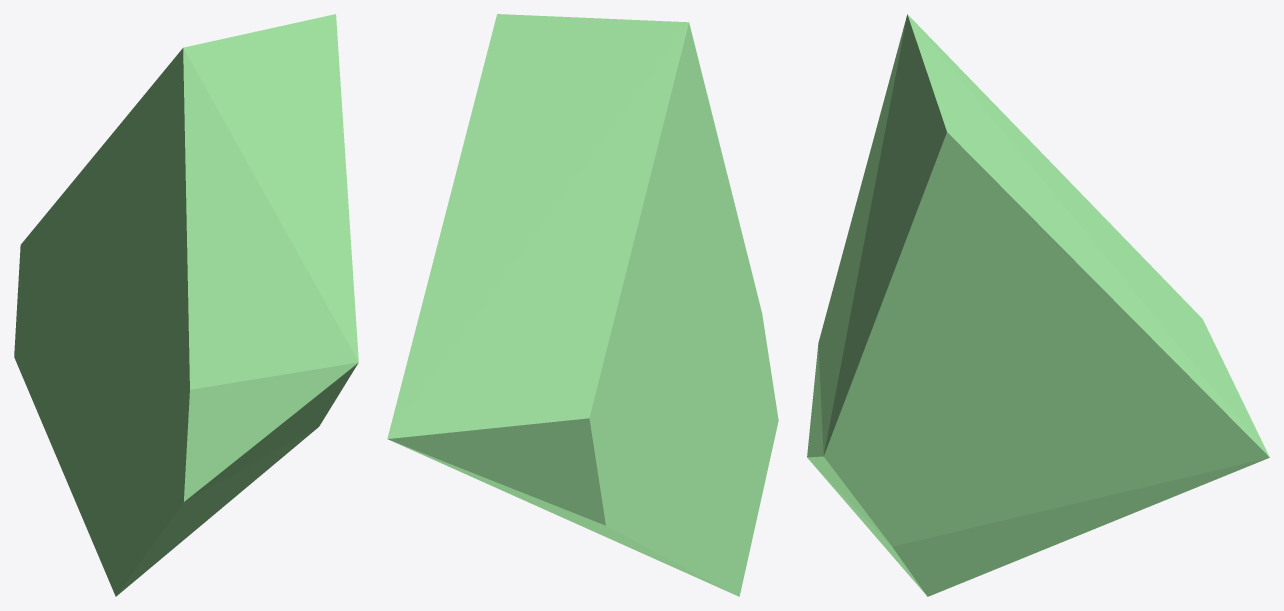
File: UMIRobot_UMIRobot_link_5_convex_coll_35.dae
3 views of the same model, side by side, from view 1: azimuth 30°, elevation 25°; view 2: azimuth 150°, elevation 25°; view 3: azimuth 270°, elevation 25° (orthographic). The views are drawn at different scales.
Visible parts, largest first — view 1: node; view 2: node; view 3: node.
Boxes of the visible parts, bbox=[...] form: node: bbox=[14, 14, 358, 596]; node: bbox=[387, 14, 778, 596]; node: bbox=[807, 14, 1269, 596].
Bounding box in the file's own units: 0.00253 × 0.00572 × 0.0039.
